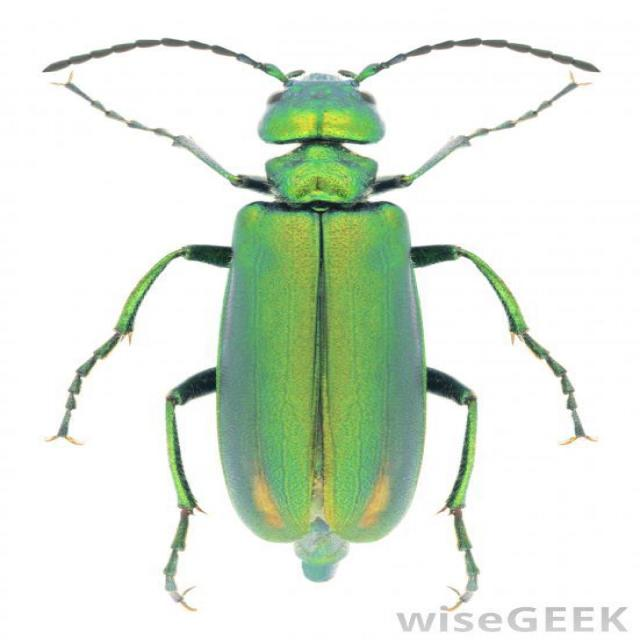BlisterBeetle-Adult-: (20, 18, 616, 610)
